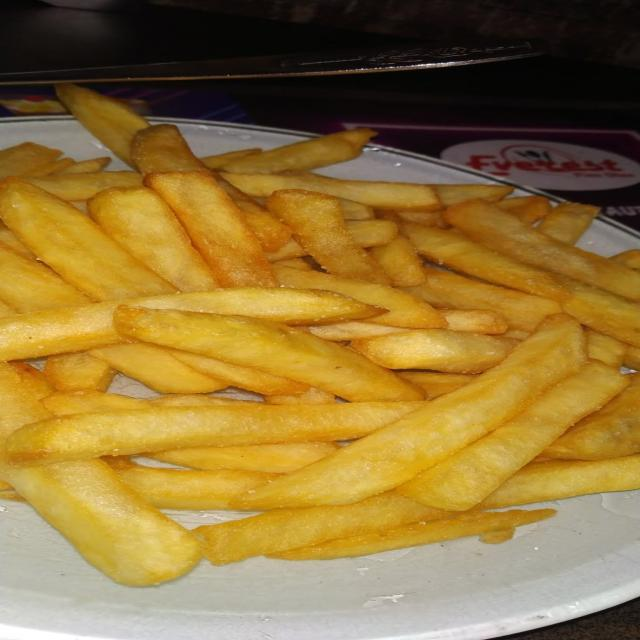potato fries: (0, 88, 639, 583), (234, 315, 584, 508), (114, 307, 423, 401), (444, 200, 639, 301), (146, 171, 276, 286), (267, 190, 389, 283), (221, 173, 440, 210), (224, 128, 376, 173)
